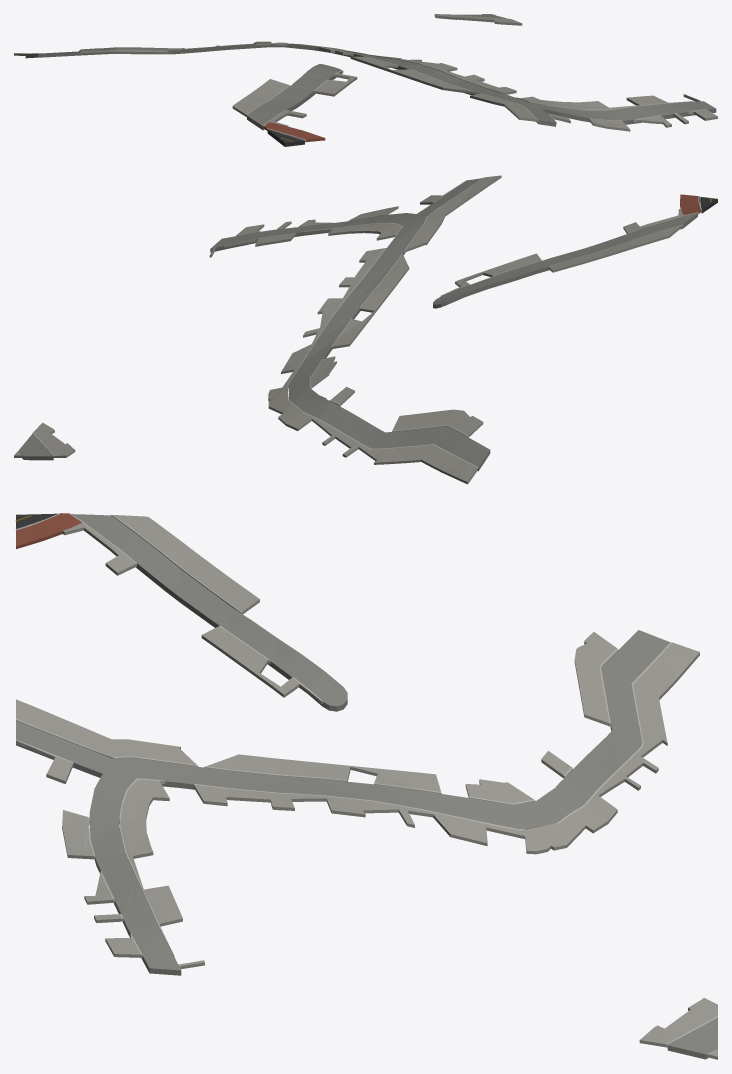
3 renders of one model, top to bottom at view 1: azimuth 30°, elevation 25°; view 2: azimuth 150°, elevation 25°; view 3: azimuth 270°, elevation 25°, orthographic. The views are drawn at different scales.
Bounding box in the file's own units: 147 × 56.89 × 146.
